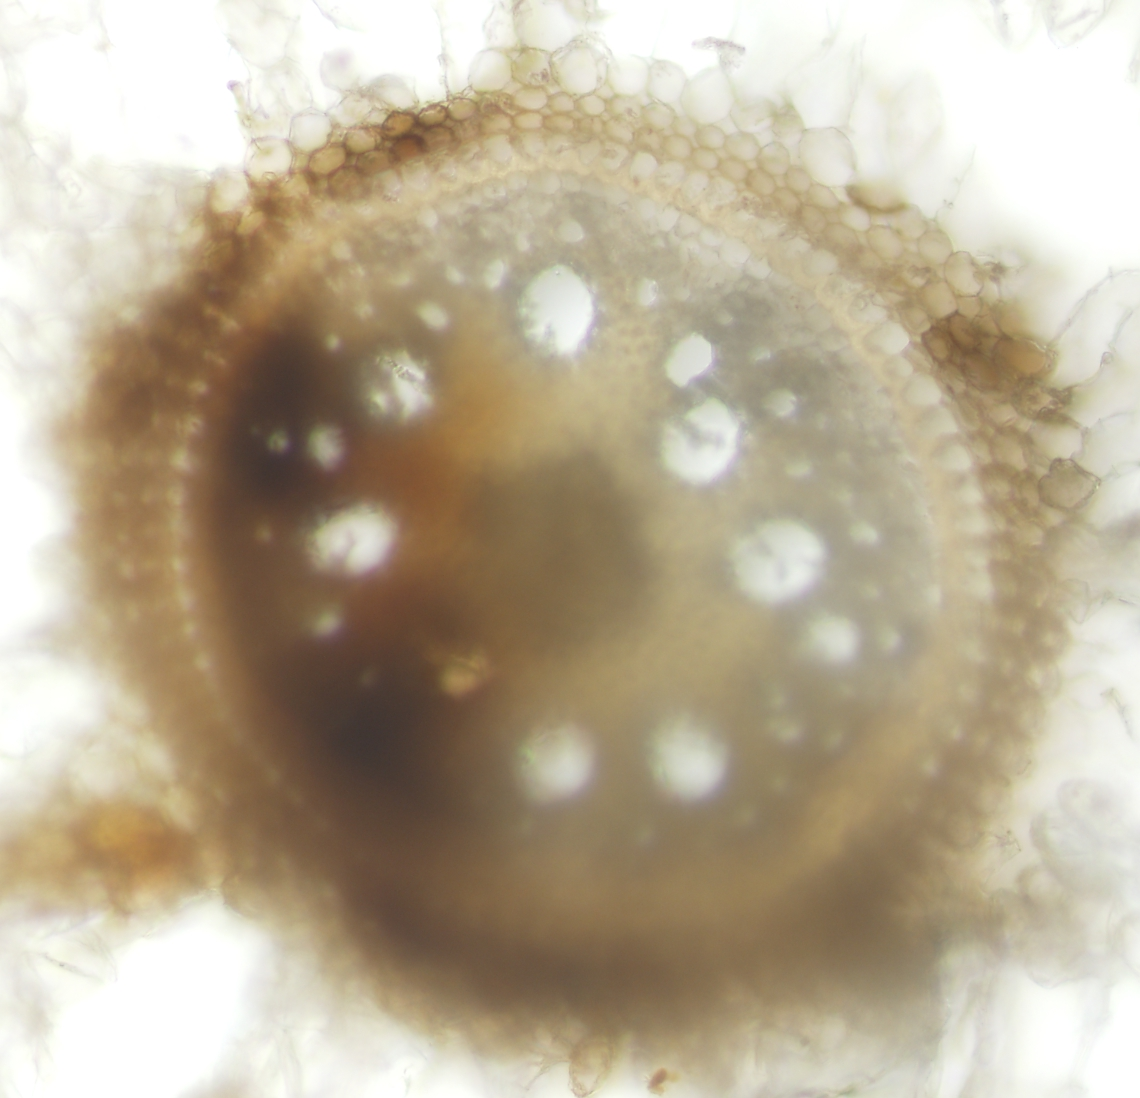lm: (727, 519, 826, 602), (517, 262, 593, 359), (642, 714, 730, 798), (655, 395, 738, 483), (305, 499, 397, 577), (514, 720, 596, 804), (354, 346, 432, 422), (663, 329, 714, 388)
